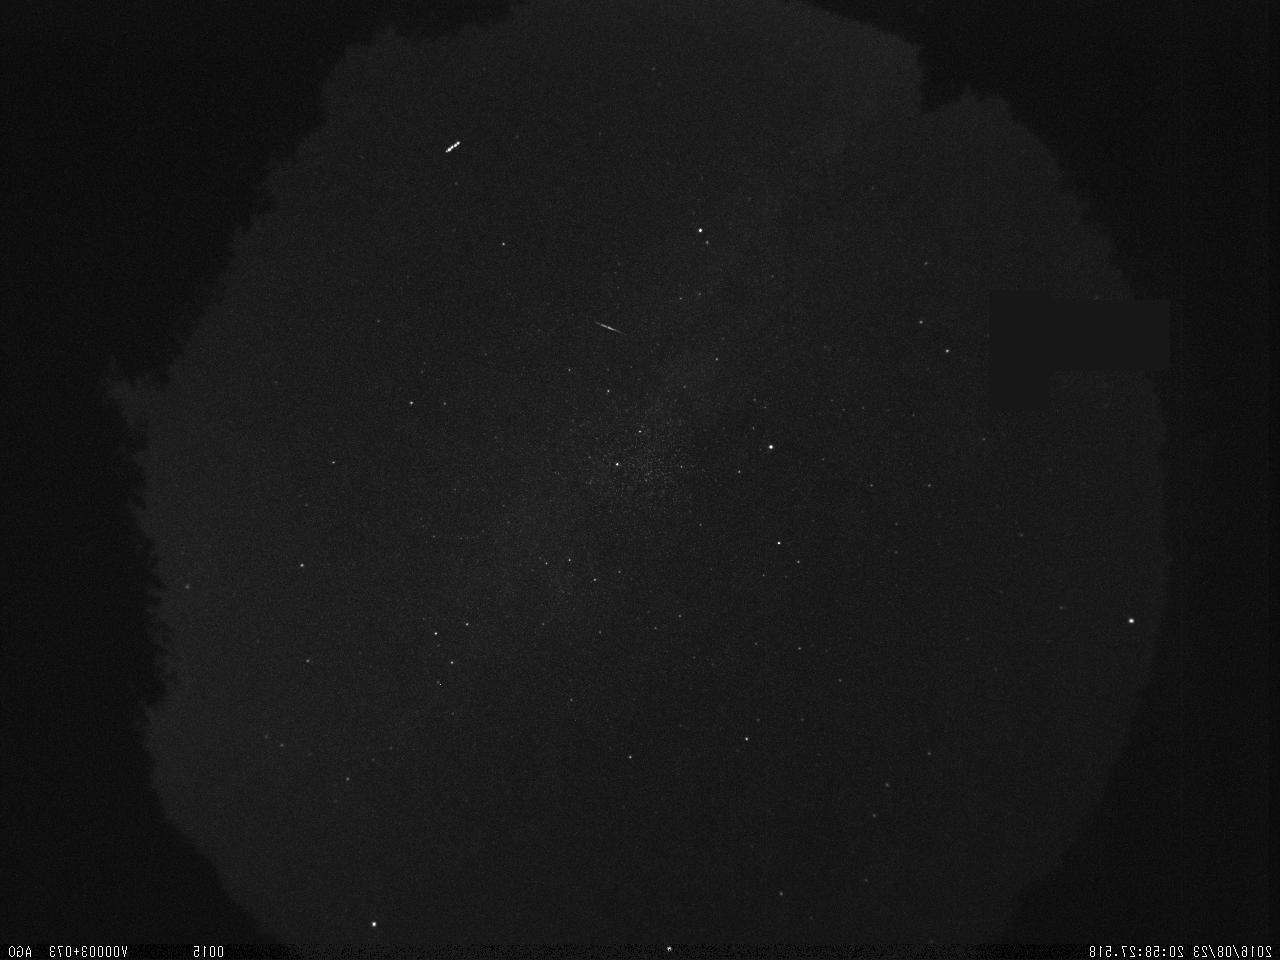meteor: (584, 313, 630, 343)
satelite: (441, 133, 464, 165)
